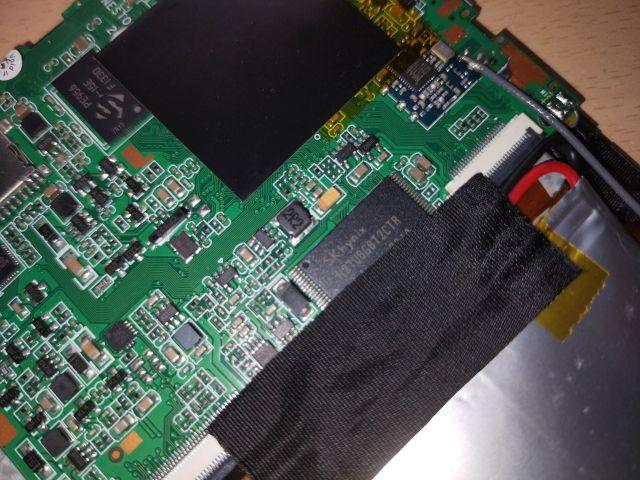capacitor: (49, 247, 91, 277), (34, 174, 68, 206), (75, 328, 101, 359), (350, 159, 373, 192), (162, 172, 189, 198), (29, 389, 58, 412), (10, 101, 35, 127), (408, 153, 442, 172), (186, 338, 212, 359), (154, 347, 182, 366), (5, 299, 32, 318), (150, 185, 173, 207), (64, 411, 79, 444), (68, 31, 91, 52), (400, 166, 425, 184), (136, 392, 158, 412), (236, 243, 253, 267), (113, 412, 130, 435), (234, 325, 252, 342), (142, 294, 160, 311), (128, 385, 144, 402), (378, 145, 388, 164), (230, 294, 243, 308), (222, 343, 236, 352)
resistor: (196, 218, 209, 240), (456, 120, 473, 131), (475, 106, 492, 116), (186, 295, 196, 309)
